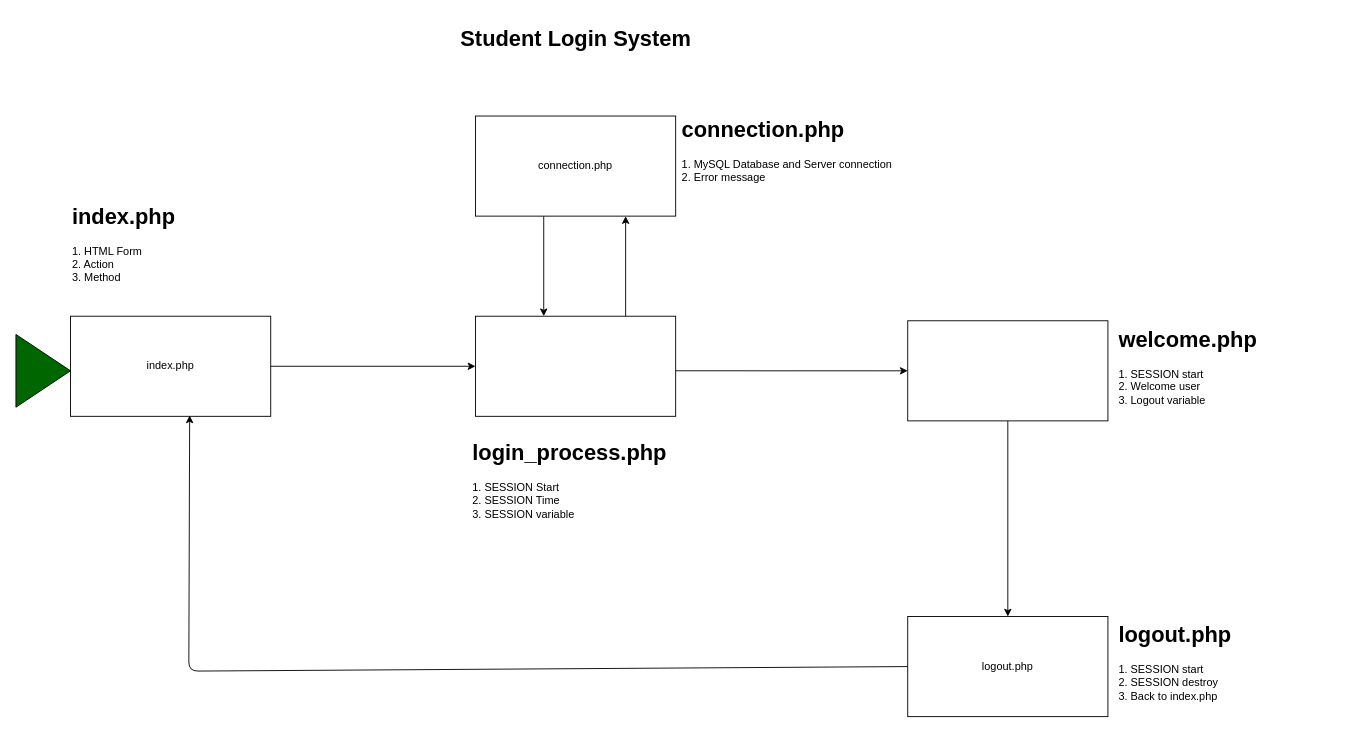
The diagram is 1370 pixels wide and 743 high, and some of its shapes have lost their labels. Here are the shapes that lost their labels. From the top down, the centre of each, then its label:
the point at 575,365: login_process.php
the point at 1007,370: welcome.php
